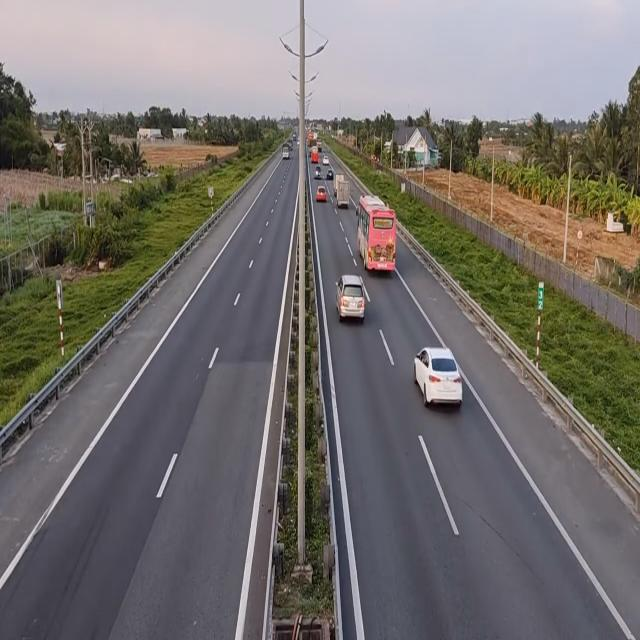bus: (355, 196, 397, 278)
car: (414, 344, 464, 408), (337, 273, 368, 324), (316, 185, 328, 203)
